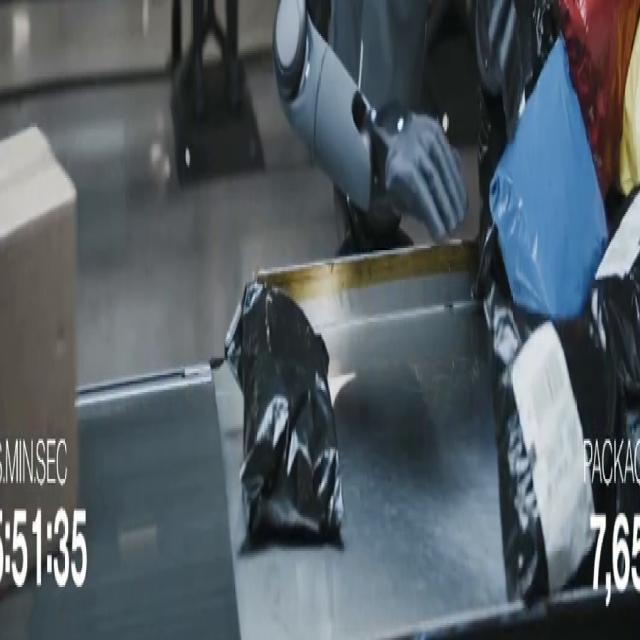package: (485, 287, 622, 603), (0, 128, 78, 587), (490, 39, 607, 319), (225, 282, 343, 540), (592, 187, 639, 525), (558, 0, 639, 194), (476, 0, 558, 139), (592, 187, 639, 398), (473, 87, 510, 298), (619, 28, 639, 194)
